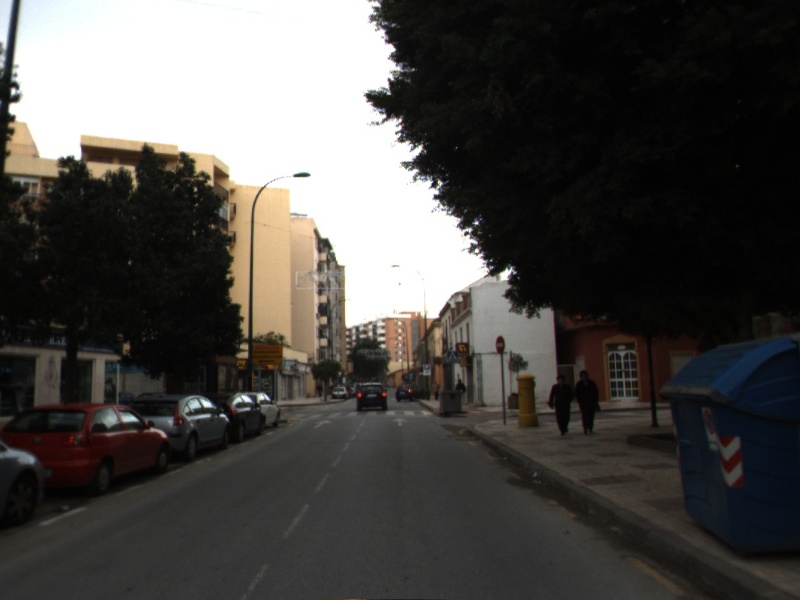STRAIGHT: (311, 418, 334, 430), (390, 416, 410, 428)
